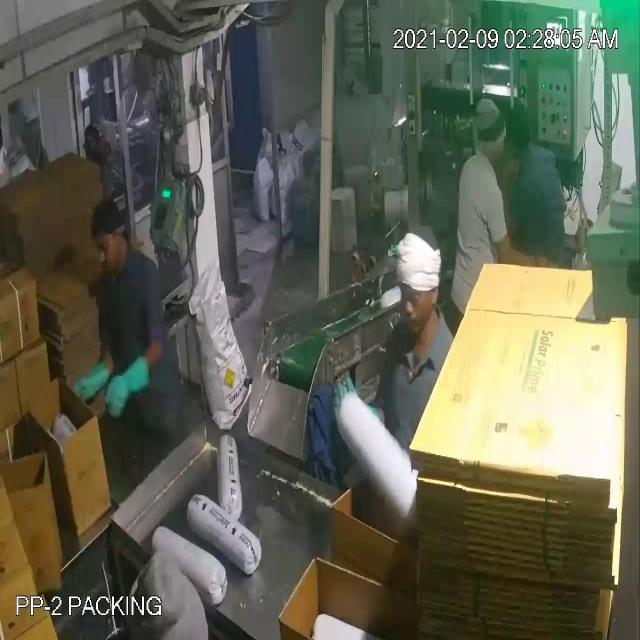Gloves: (51, 52, 521, 388)
